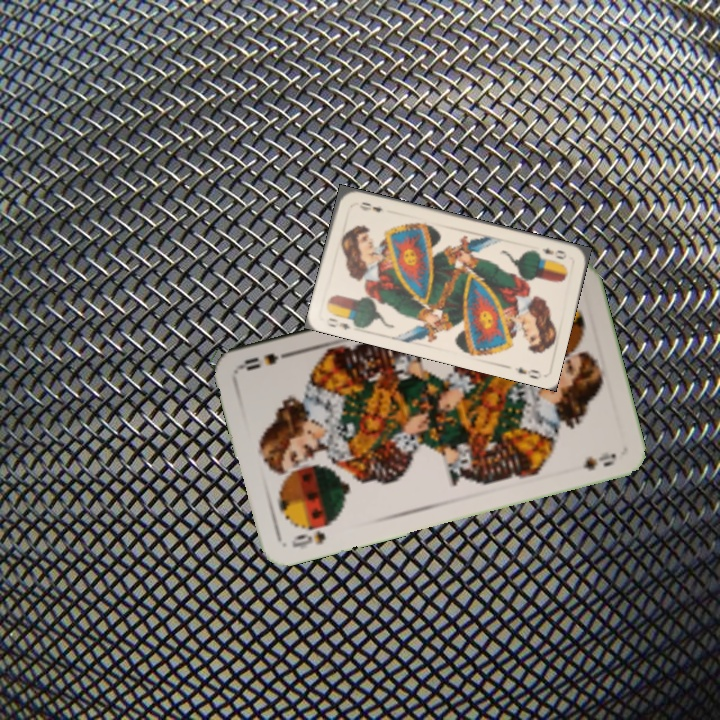EO: (538, 244, 569, 262), (324, 314, 353, 333)
SO: (287, 519, 334, 551)
